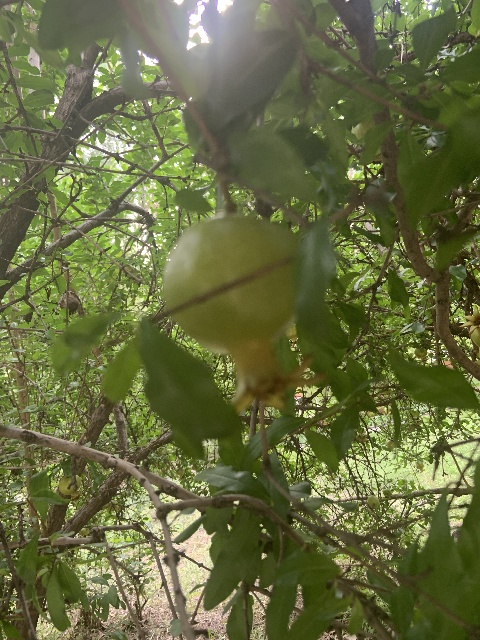mid-growth: (160, 214, 323, 416)
